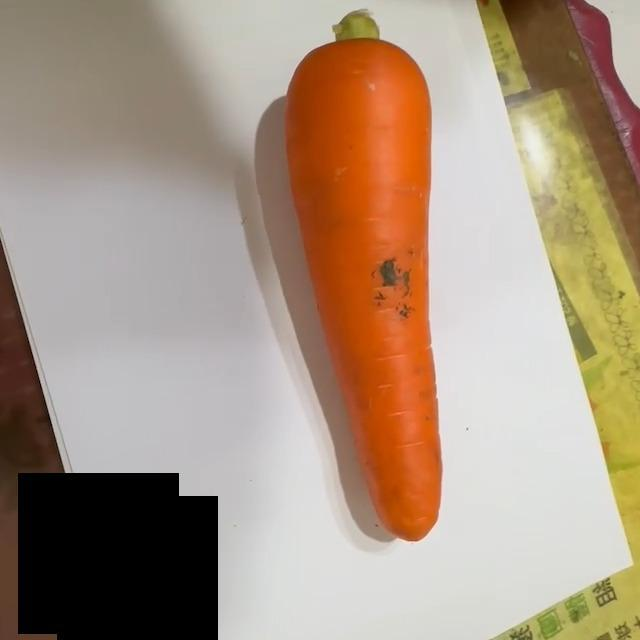carrot: (284, 11, 444, 547)
